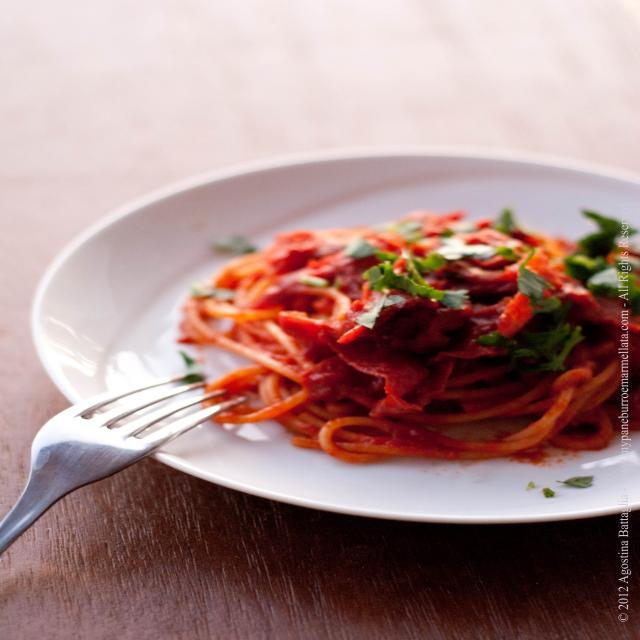Oil pasta: (141, 184, 640, 483)
